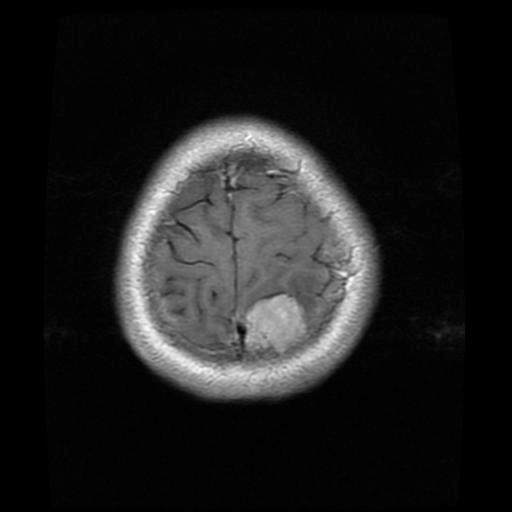Tumour-Pituitary: (225, 278, 318, 365)
